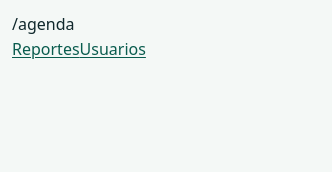
Test: Link › conserva href y navega client-side con un click normal
The width and height of the screenshot is (332, 172).
Expected: the text with test id "pathname" reads "/agenda", [12, 13, 74, 35]
Click the link "Reportes" at point(46, 49), box [12, 38, 80, 60]
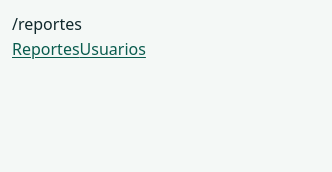
Now the text with test id "pathname" reads "/reportes", box [12, 13, 82, 35]
